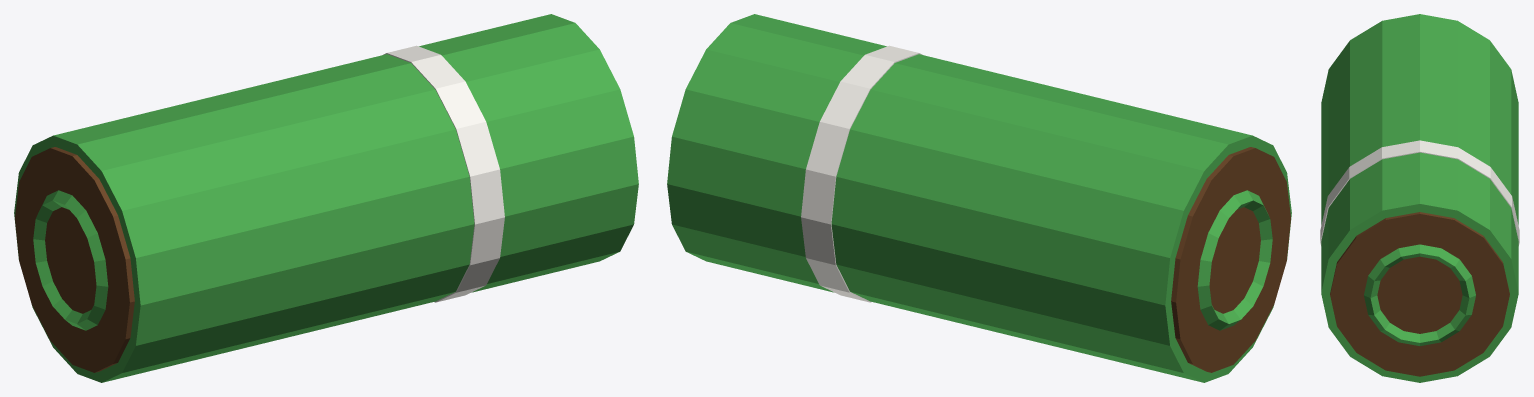
File: grass_roll.glb
3 renders of one model, left to right at view 1: azimuth 30°, elevation 25°; view 2: azimuth 150°, elevation 25°; view 3: azimuth 270°, elevation 25°, orthographic. The views are drawn at different scales.
Parts seen in each view (by area): view 1: roll_roll_turf, end_roll_dirt, line_roll_line, spiral_roll_turf; view 2: roll_roll_turf, end_roll_dirt, line_roll_line, spiral_roll_turf; view 3: roll_roll_turf, end_roll_dirt, spiral_roll_turf, line_roll_line.
Part boxes in pixels (box(x1,y1,x2,y2)): roll_roll_turf: box(14, 14, 638, 382); end_roll_dirt: box(15, 147, 134, 372); line_roll_line: box(383, 45, 504, 302); spiral_roll_turf: box(33, 190, 108, 330); roll_roll_turf: box(667, 14, 1291, 382); end_roll_dirt: box(1171, 147, 1290, 372); line_roll_line: box(801, 45, 922, 302); spiral_roll_turf: box(1197, 190, 1272, 330); roll_roll_turf: box(1321, 14, 1518, 382); end_roll_dirt: box(1330, 212, 1509, 376); spiral_roll_turf: box(1364, 244, 1475, 345); line_roll_line: box(1320, 140, 1519, 245).
Bounding box in the file's own units: 1.05 × 0.444 × 0.444.
